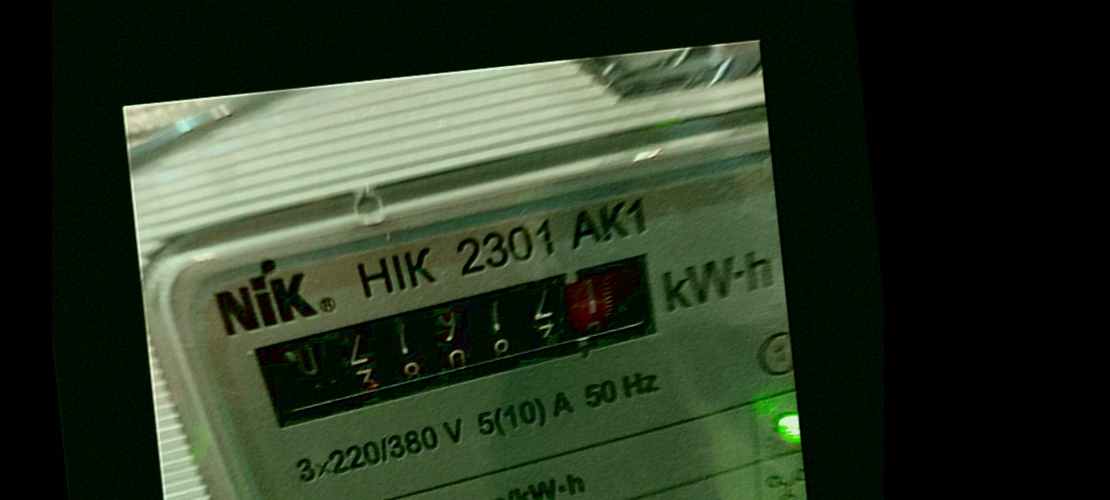0: (293, 341, 325, 380)
1: (581, 275, 607, 320)
2: (341, 327, 374, 369), (528, 284, 559, 323)
7: (481, 294, 511, 337), (390, 320, 417, 359)
9: (436, 307, 466, 345)
screen: (233, 242, 699, 442)
